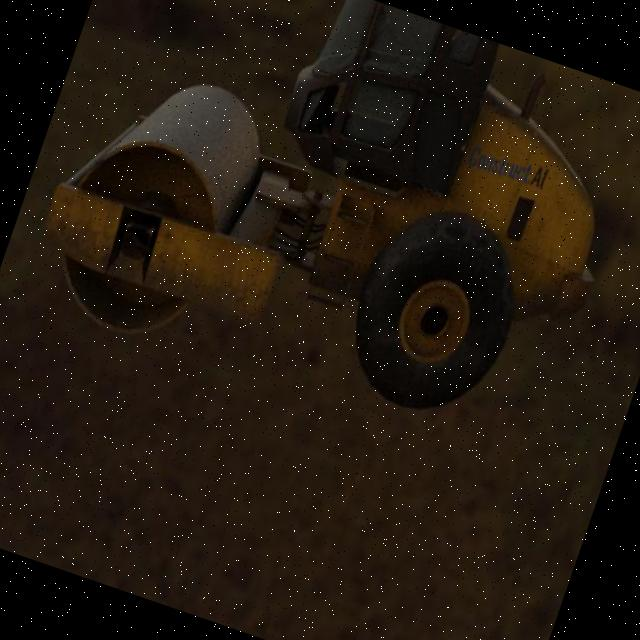Roller: (15, 0, 640, 474)
